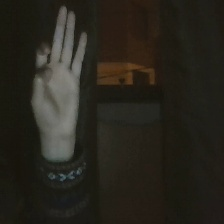F: (23, 2, 95, 144)
